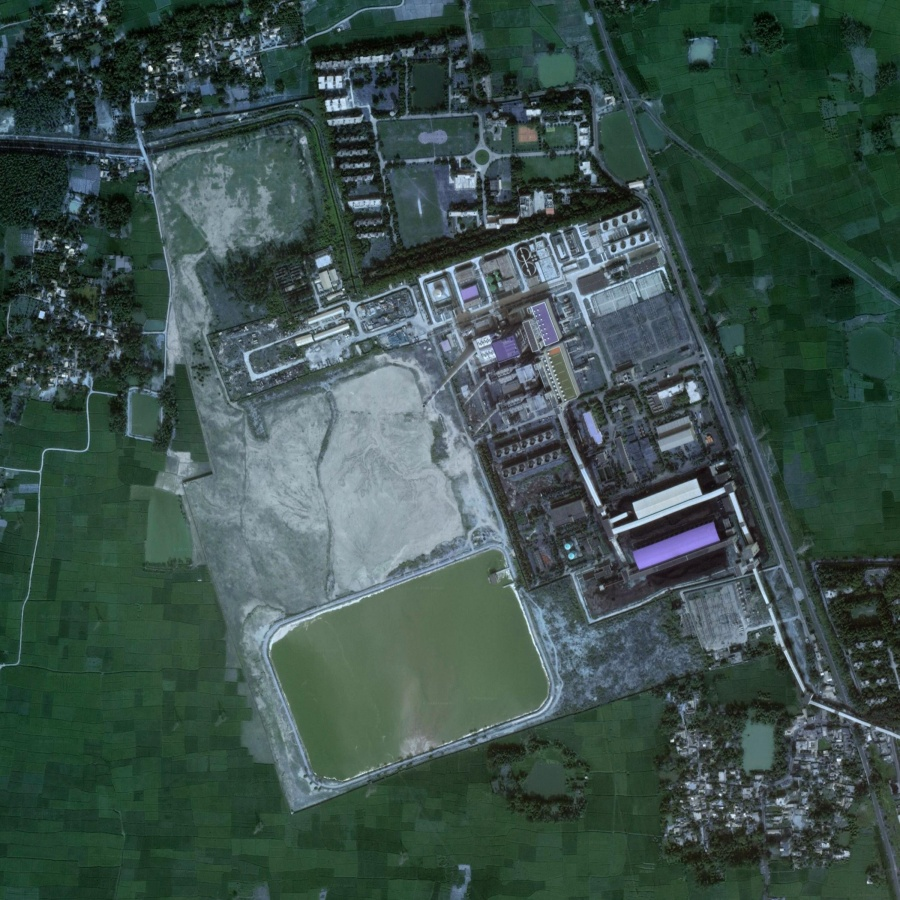PowerPlant: (204, 194, 820, 774)
